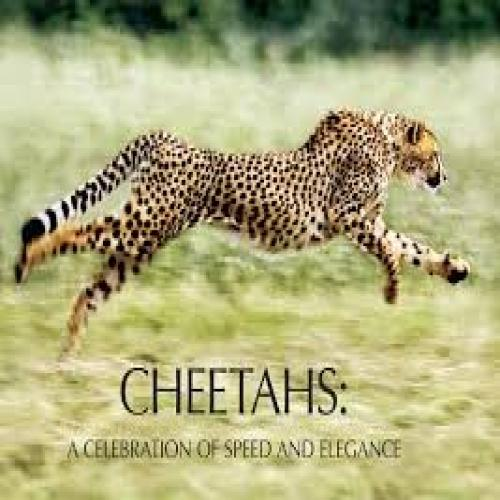cheetah-endangered: (22, 113, 469, 330)
